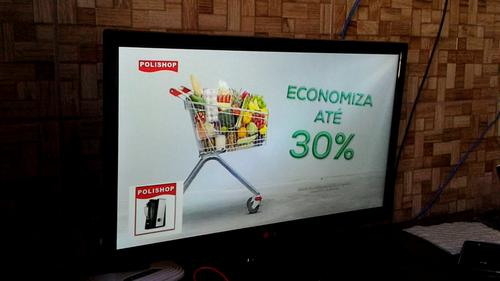Polishop #1: (128, 180, 183, 242)
